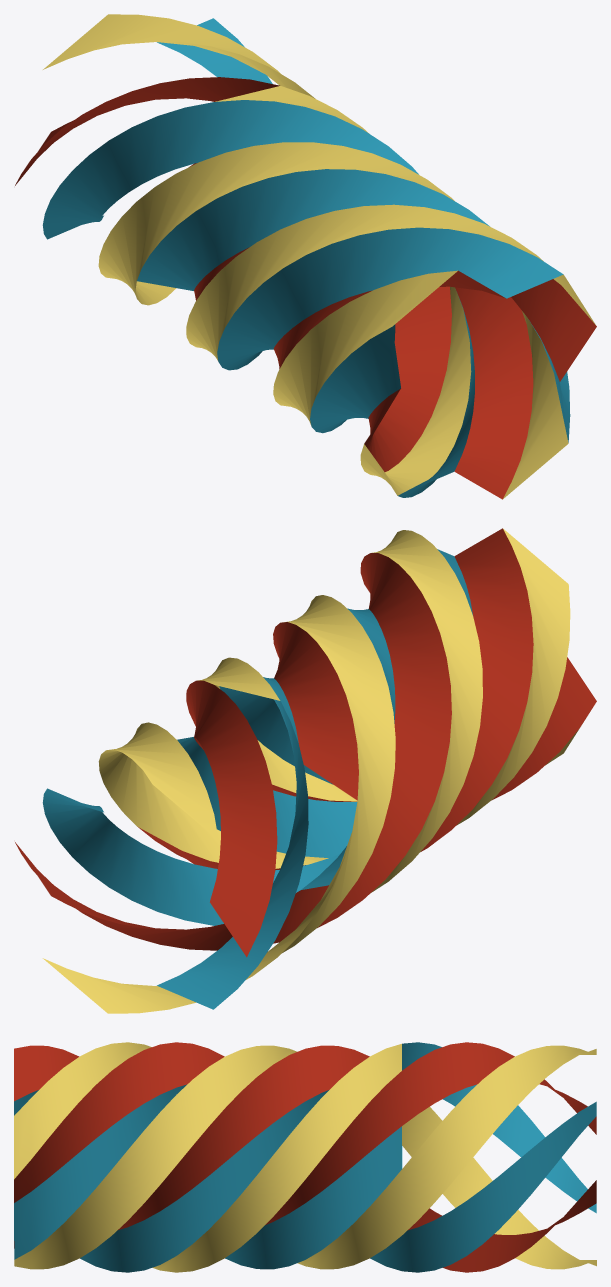
The model's file is spiral_end.FBX.
3 renders of one model, top to bottom at view 1: azimuth 30°, elevation 25°; view 2: azimuth 150°, elevation 25°; view 3: azimuth 270°, elevation 25°, orthographic. The views are drawn at different scales.
Visible parts, largest first — view 1: Object025; view 2: Object025; view 3: Object025.
Boxes of the visible parts, bbox=[...] form: Object025: bbox=[15, 14, 596, 499]; Object025: bbox=[15, 528, 596, 1013]; Object025: bbox=[14, 1042, 596, 1272].
Bounding box in the file's own units: 5050 × 5050 × 12806.
